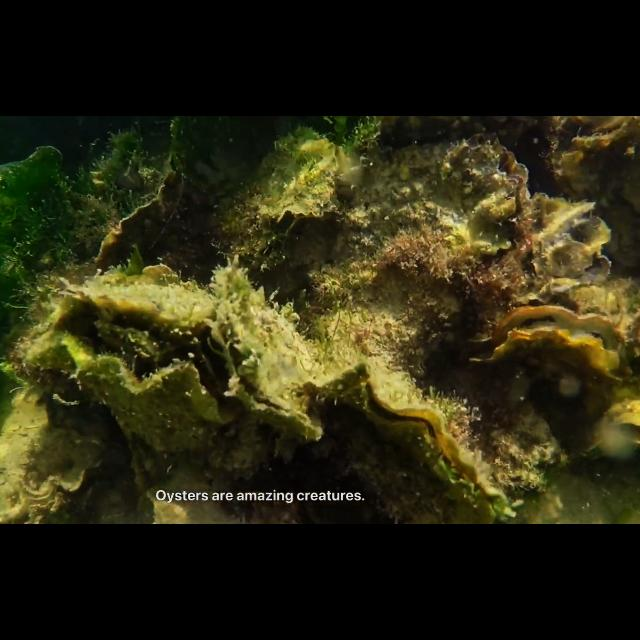Oyster-Closed: (90, 156, 208, 272)
Oyster-Open: (326, 127, 530, 376), (27, 272, 245, 452), (299, 356, 501, 524), (203, 258, 319, 440), (463, 300, 625, 390), (550, 116, 640, 270), (0, 407, 106, 525), (514, 188, 610, 302), (204, 180, 286, 276), (255, 151, 338, 237), (562, 398, 640, 462), (117, 418, 161, 514)
